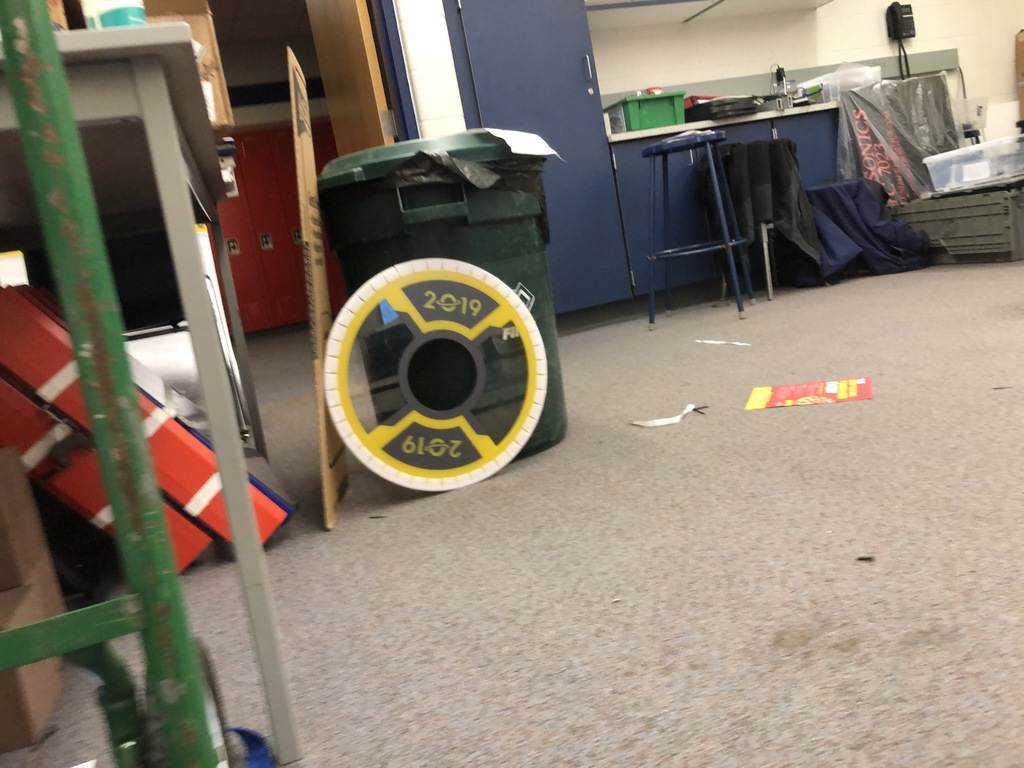hatch_panel: (307, 252, 569, 499)
